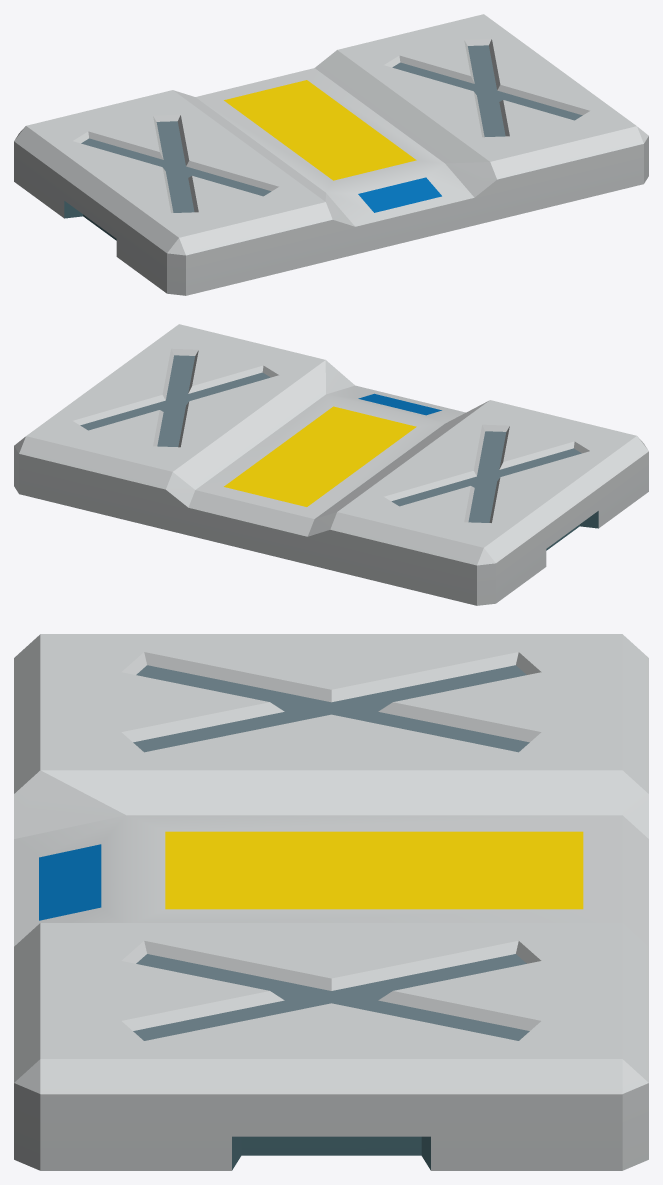
The model's file is Crate_010_cap_001.fbx.
3 views of the same model, one above another, from view 1: azimuth 30°, elevation 25°; view 2: azimuth 150°, elevation 25°; view 3: azimuth 270°, elevation 25° (orthographic). The views are drawn at different scales.
Visible parts, largest first — view 1: Crate_010_cap_001; view 2: Crate_010_cap_001; view 3: Crate_010_cap_001.
Boxes of the visible parts, left/top/right/bottom form: Crate_010_cap_001: left=14, top=14, right=648, bottom=295; Crate_010_cap_001: left=14, top=324, right=648, bottom=605; Crate_010_cap_001: left=14, top=634, right=648, bottom=1170.
Bounding box in the file's own units: 100 × 60 × 11.
